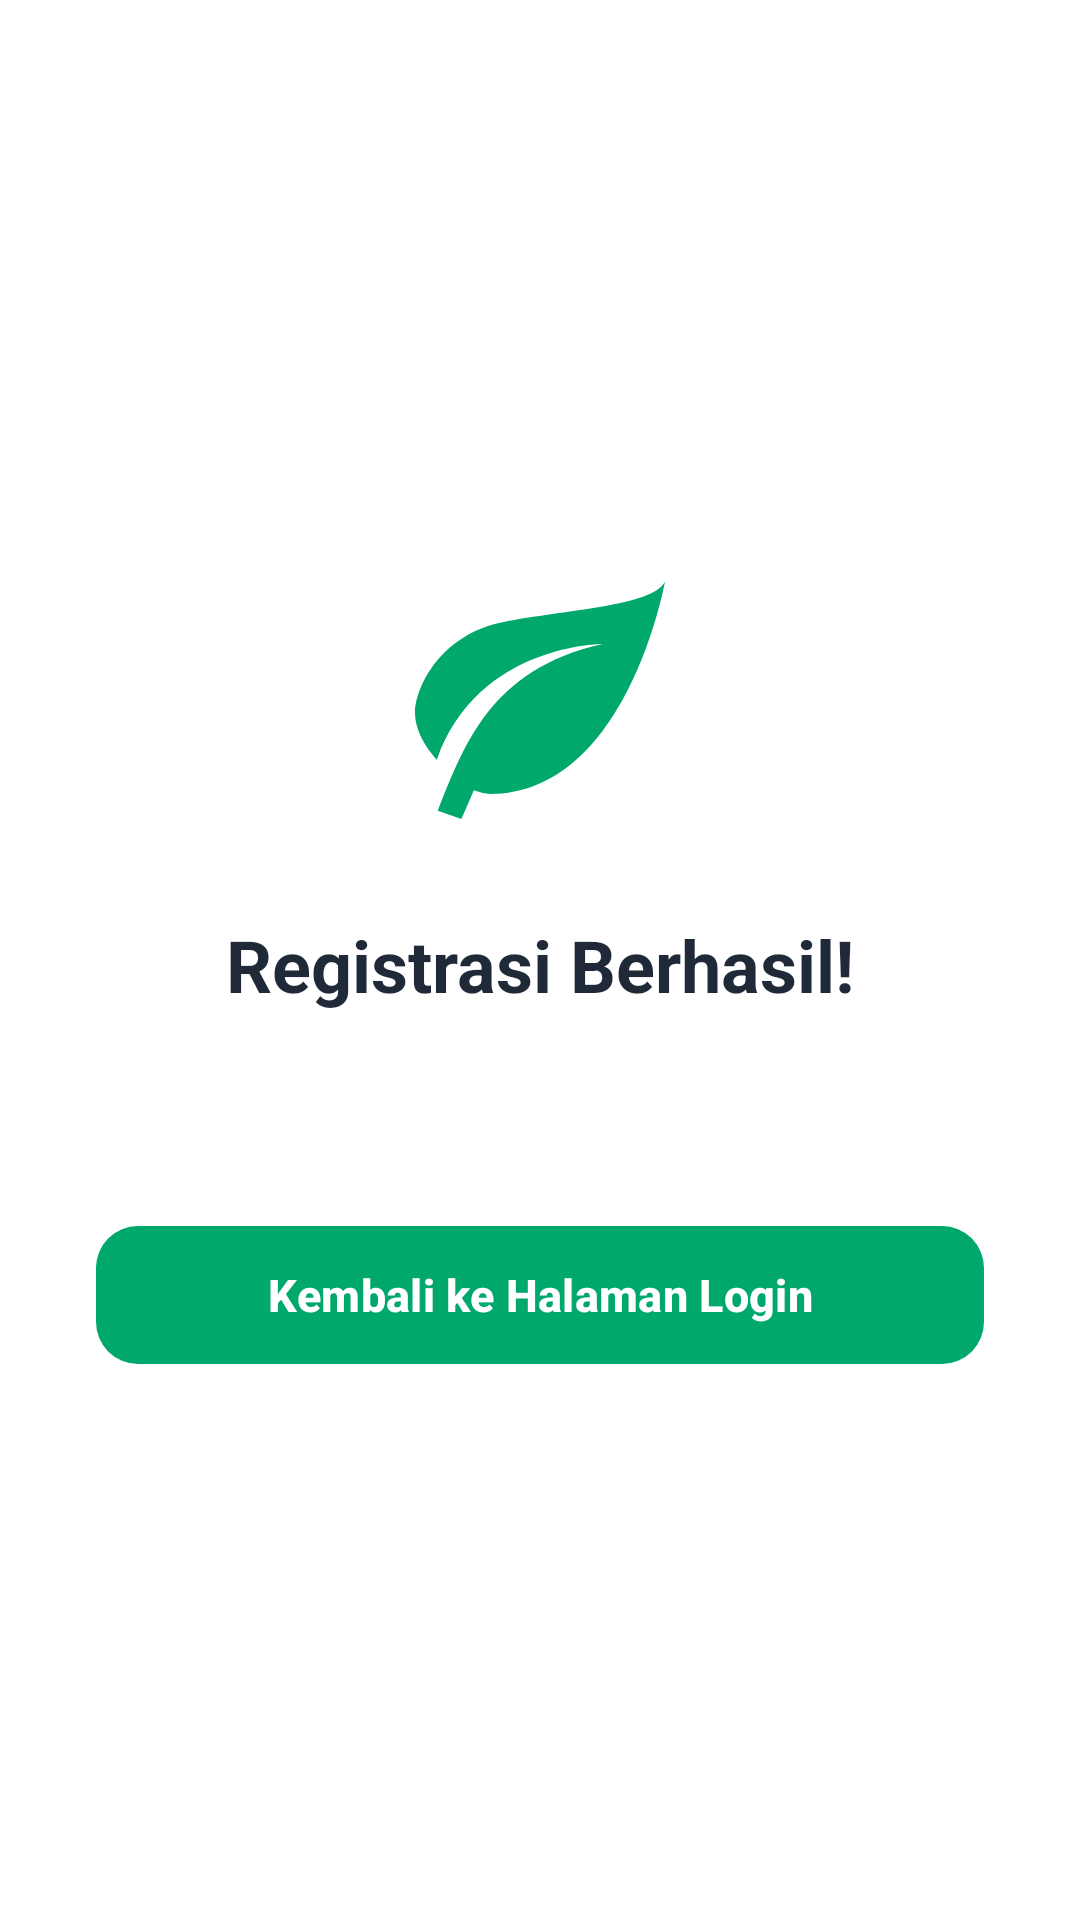

Icons on this 1080w x 1920h Android screen, each with the point to tap as (x=x, y=y):
eco: (x=540, y=700)
